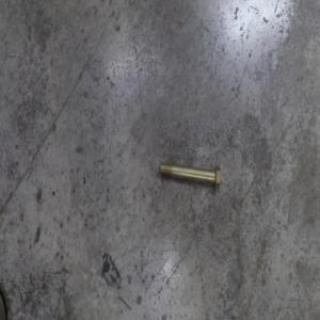Bolttrack_idkeyframe: (156, 160, 220, 190)
